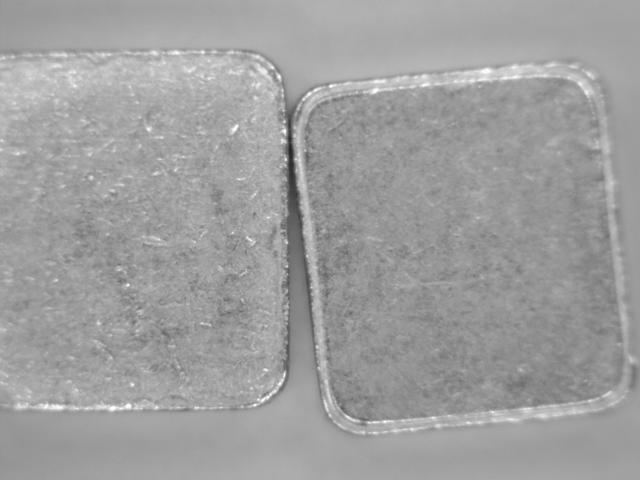nok: (288, 39, 640, 452)
ok: (7, 39, 290, 422)
